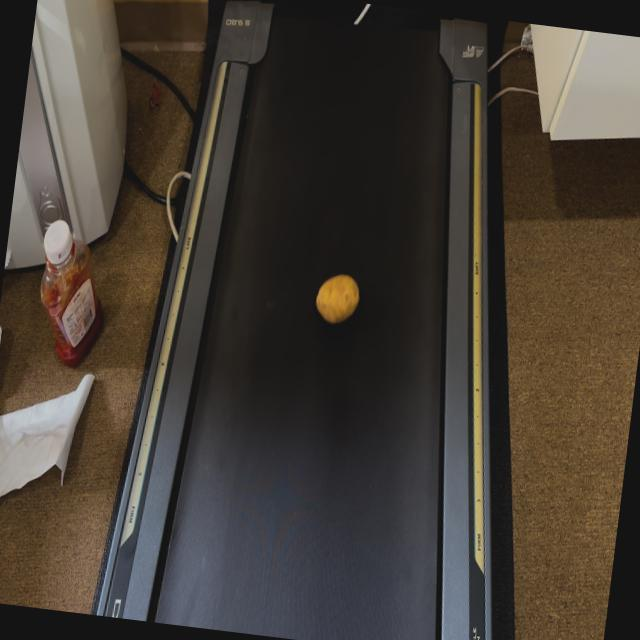Trash: (306, 262, 376, 364), (340, 0, 379, 60)
